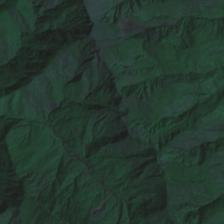landslides: (44, 164, 56, 180), (30, 101, 39, 114)
